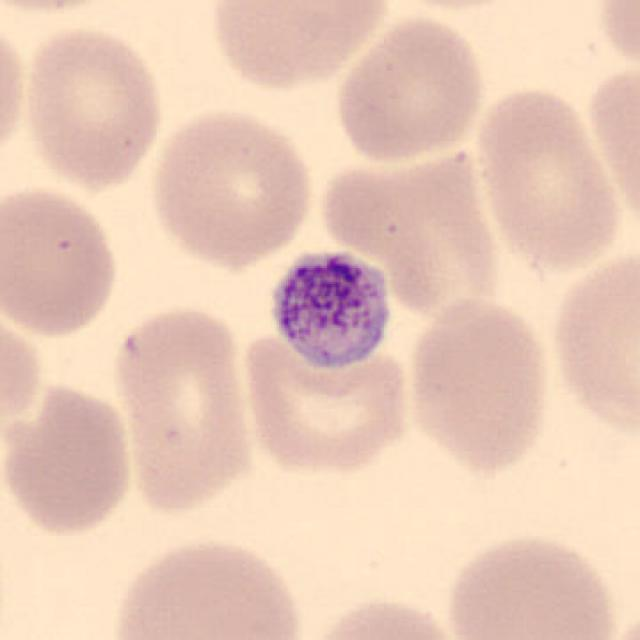Platelets: (259, 244, 402, 376)
RBC: (315, 141, 505, 321), (106, 298, 260, 518), (469, 81, 626, 273), (144, 102, 318, 274), (402, 292, 556, 478), (236, 323, 416, 481), (18, 19, 169, 194), (331, 11, 489, 168), (0, 373, 140, 541), (104, 530, 309, 640), (441, 527, 622, 640), (0, 179, 124, 340), (544, 240, 640, 442), (202, 0, 394, 93), (583, 56, 640, 235), (289, 590, 469, 640), (0, 12, 30, 170), (590, 0, 638, 81), (373, 0, 535, 14), (0, 0, 133, 17), (599, 601, 638, 640)
